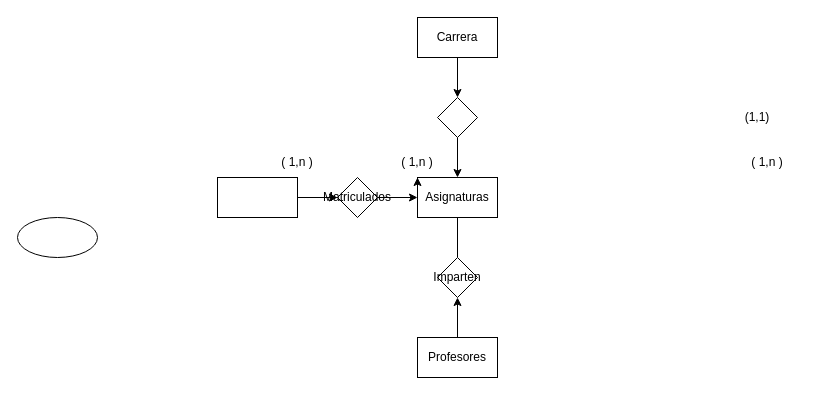
Some shapes in this 815 by 395 pixel diagram are drawn without their labels. Here are the shapes that lost their labels. From the top down, the box of each, then its label:
(436, 96, 478, 138): Forman
(216, 176, 298, 218): Alumnos
